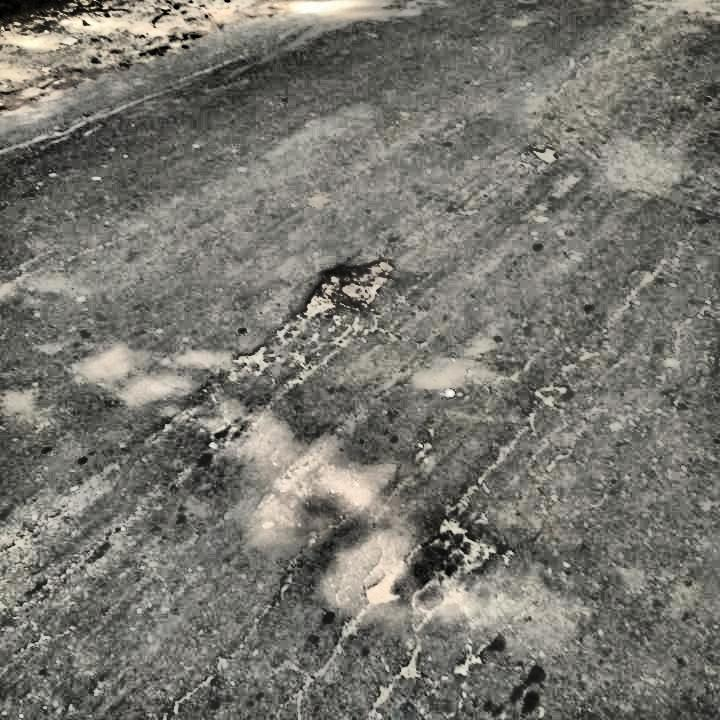pothole: (299, 254, 393, 321)
